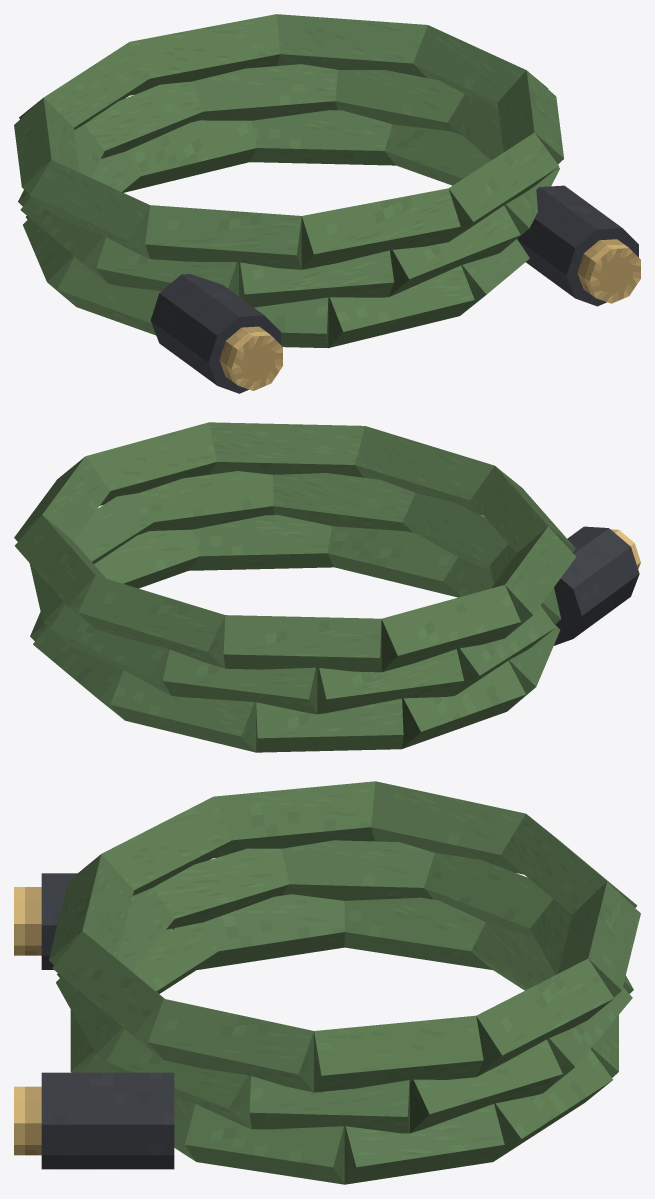
File: hose_garden.glb
3 renders of one model, top to bottom at view 1: azimuth 30°, elevation 25°; view 2: azimuth 150°, elevation 25°; view 3: azimuth 270°, elevation 25°, orthographic. The views are drawn at different scales.
Parts seen in each view (by area): view 1: block_connector shell (×2), block_coiled length2-0, block_coiled length2-9, block_coiled length2-5, block_coiled length2-4, block_coiled length1-6, block_coiled length0-8, block_coiled length0-2, block_end plug (×2), block_coiled length0-7, block_coiled length1-7, block_coiled length1-1 (+19 smaller); view 2: block_coiled length2-3, block_coiled length2-8, block_coiled length2-4, block_coiled length2-2, block_coiled length0-1, block_coiled length1-0, block_coiled length0-6, block_connector shell, block_coiled length2-9, block_coiled length1-9, block_coiled length0-7, block_coiled length0-2 (+18 smaller); view 3: block_connector shell (×2), block_coiled length2-6, block_coiled length2-7, block_coiled length2-1, block_coiled length2-2, block_coiled length1-3, block_coiled length0-9, block_coiled length0-0, block_coiled length0-5, block_coiled length0-4, block_coiled length2-5, block_coiled length1-8 (+20 smaller).
Boxes of the visible parts, x1,y1,x2,y2 form: block_connector shell (×2): (150, 185, 638, 393); block_coiled length2-0: (145, 205, 301, 269); block_coiled length2-9: (301, 188, 460, 269); block_coiled length2-5: (276, 14, 427, 77); block_coiled length2-4: (130, 14, 280, 95); block_coiled length1-6: (192, 64, 338, 121); block_coiled length0-8: (250, 110, 395, 165); block_coiled length0-2: (328, 265, 474, 347); block_end plug (×2): (219, 239, 640, 390); block_coiled length0-7: (122, 120, 256, 192); block_coiled length1-7: (335, 70, 464, 134); block_coiled length1-1: (239, 250, 394, 307); block_coiled length2-3: (223, 615, 381, 672); block_coiled length2-8: (209, 422, 364, 477); block_coiled length2-4: (78, 575, 225, 668); block_coiled length2-2: (381, 585, 520, 671); block_coiled length0-1: (189, 515, 333, 570); block_coiled length1-0: (273, 473, 415, 532); block_coiled length0-6: (256, 698, 403, 752); block_connector shell: (554, 526, 639, 645); block_coiled length2-9: (355, 426, 494, 515); block_coiled length1-9: (139, 471, 273, 534); block_coiled length0-7: (110, 670, 255, 752); block_coiled length0-2: (327, 526, 460, 597); block_connector shell (×2): (41, 873, 174, 1169); block_coiled length2-6: (314, 1015, 483, 1092); block_coiled length2-7: (148, 999, 313, 1092); block_coiled length2-1: (213, 781, 375, 857); block_coiled length2-2: (371, 781, 525, 874); block_coiled length1-3: (282, 840, 434, 900); block_coiled length0-9: (344, 1104, 504, 1184); block_coiled length0-0: (185, 1104, 344, 1184); block_coiled length0-5: (344, 897, 492, 969); block_coiled length0-4: (196, 894, 344, 970); block_coiled length2-5: (476, 959, 614, 1076); block_coiled length1-8: (249, 1076, 409, 1133).
Size of the model in its own units: 0.3 by 0.0806 by 0.2862.
Materials: 1 (1 with a texture image).
